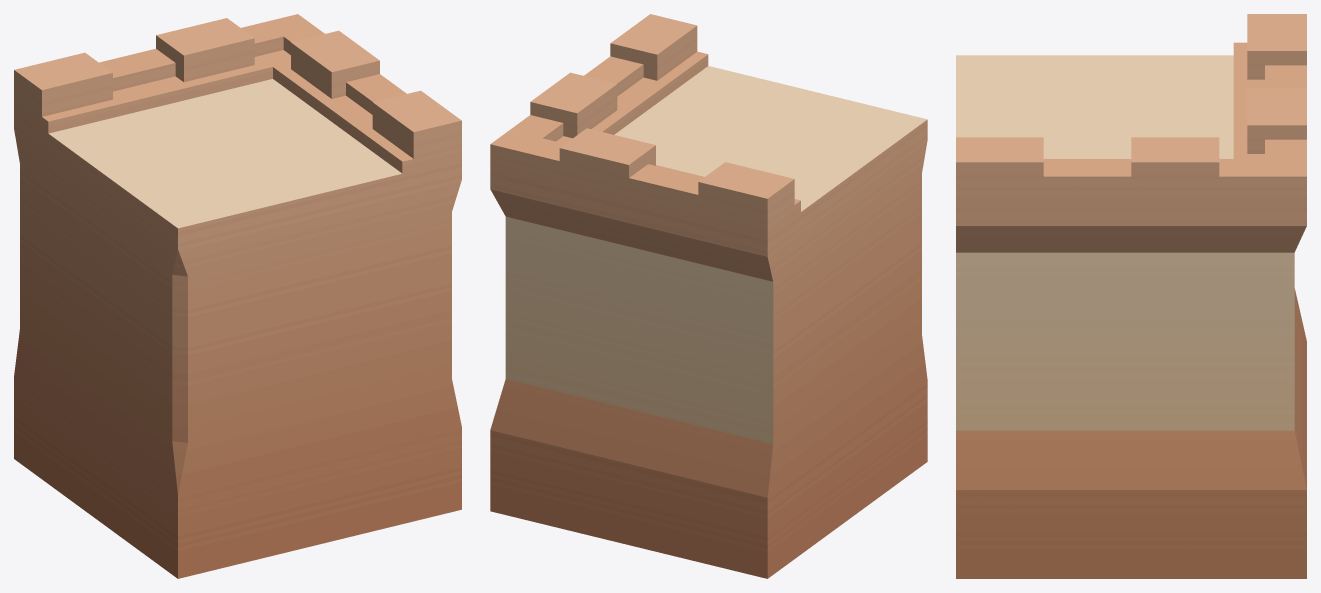
The model's file is wall-corner-half.glb.
The picture shows the model from 3 angles, left to right: view 1: azimuth 30°, elevation 25°; view 2: azimuth 150°, elevation 25°; view 3: azimuth 270°, elevation 25°; orthographic projection. The views are drawn at different scales.
Parts seen in each view (by area): view 1: wall-corner-half; view 2: wall-corner-half; view 3: wall-corner-half.
Part boxes in pixels (x1,y1,x2,y2): wall-corner-half: (14, 14, 461, 578); wall-corner-half: (490, 14, 927, 578); wall-corner-half: (956, 14, 1306, 578).
Size of the model in its own units: 1 by 1.31 by 1.
Materials: 1 (1 with a texture image).
